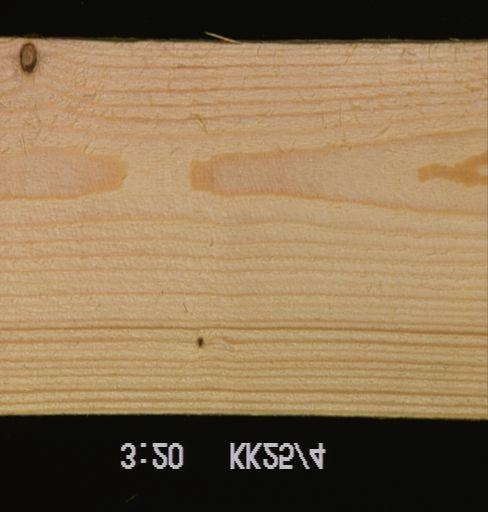small_knot: (193, 335, 204, 351)
